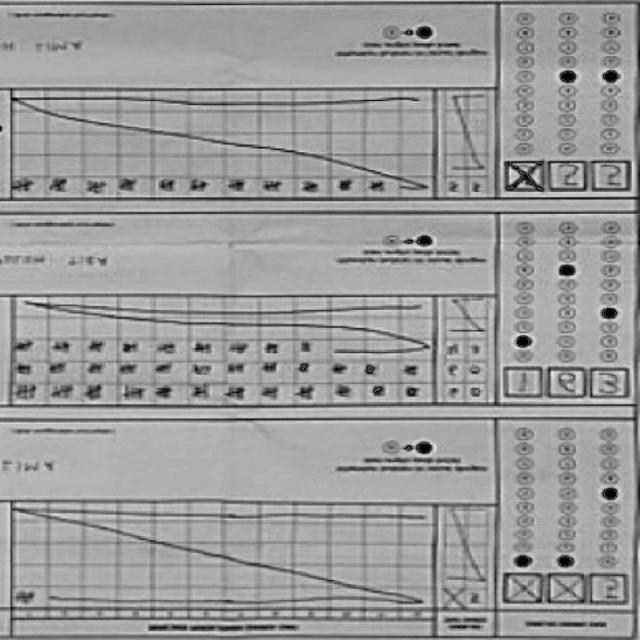Suara: (498, 363, 632, 405), (500, 158, 632, 200), (500, 571, 631, 611)
